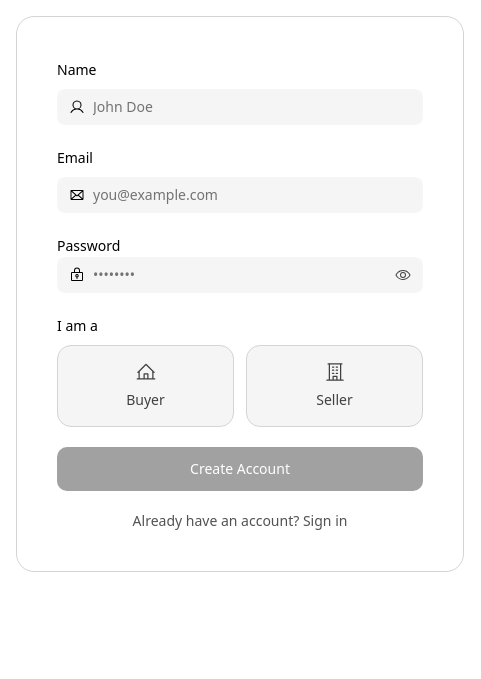
Test: RegisterForm › should display validation errors for empty fields
This screenshot has width=481, height=679.
Click the button "Buyer" at [146, 386], box [57,345,234,427]
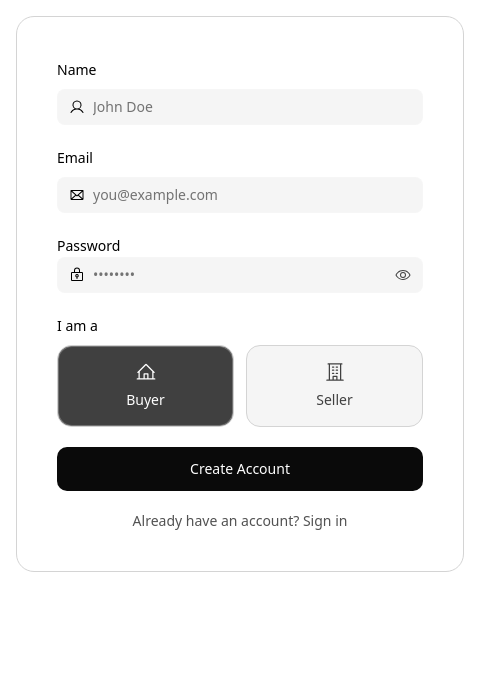
Click the button "Create Account" at [240, 469], box [57,447,423,491]
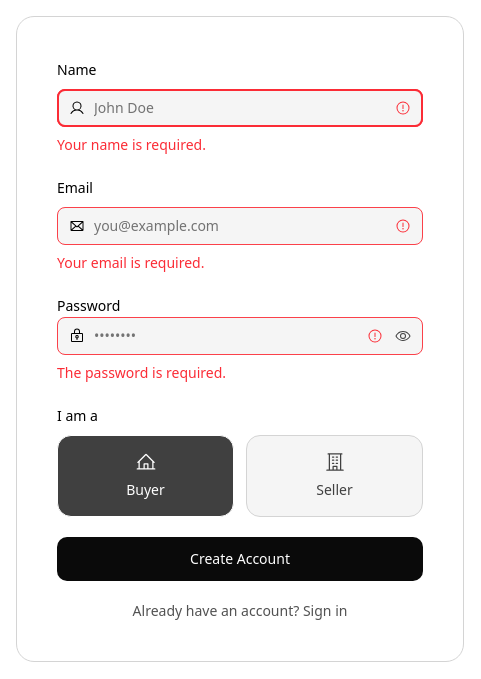
Expected: the text "Your name is required." is shown, [57,135,206,154]
Expected: the text "Your email is required." is shown, [57,253,204,272]
Expected: the text "The password is required." is shown, [57,363,226,382]
